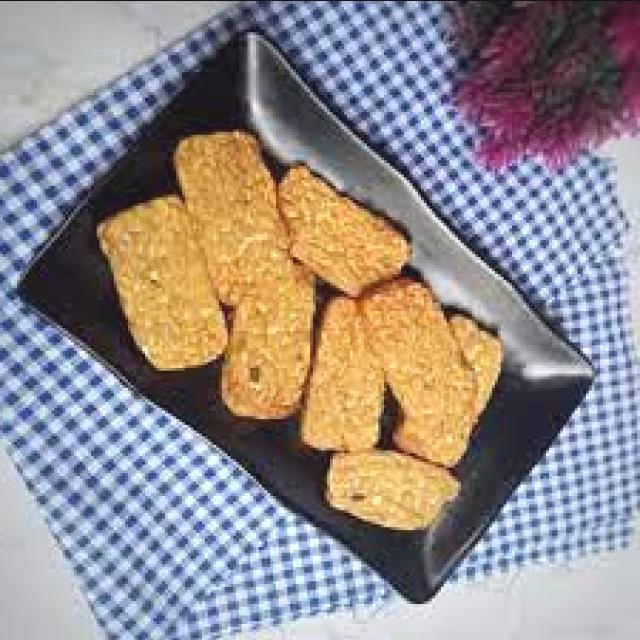tempe goreng: (97, 177, 235, 383), (170, 120, 294, 310), (222, 230, 308, 430), (277, 169, 413, 295), (361, 275, 475, 418), (302, 292, 384, 452), (327, 446, 454, 541)
